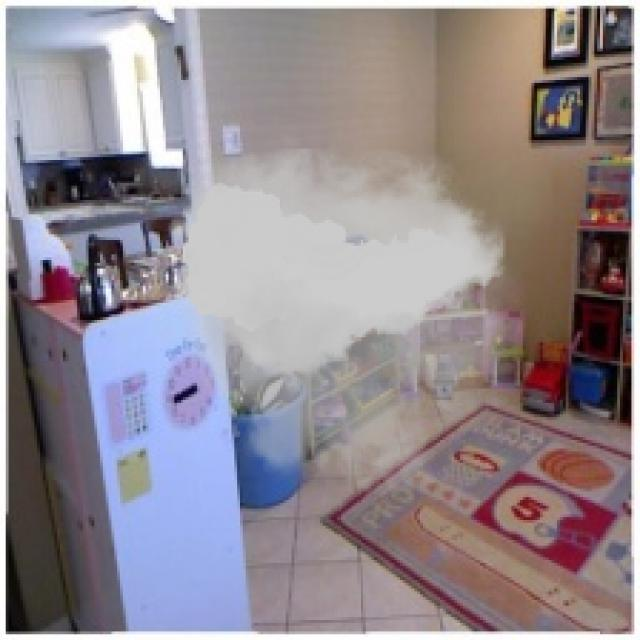smoke: (157, 117, 529, 517)
